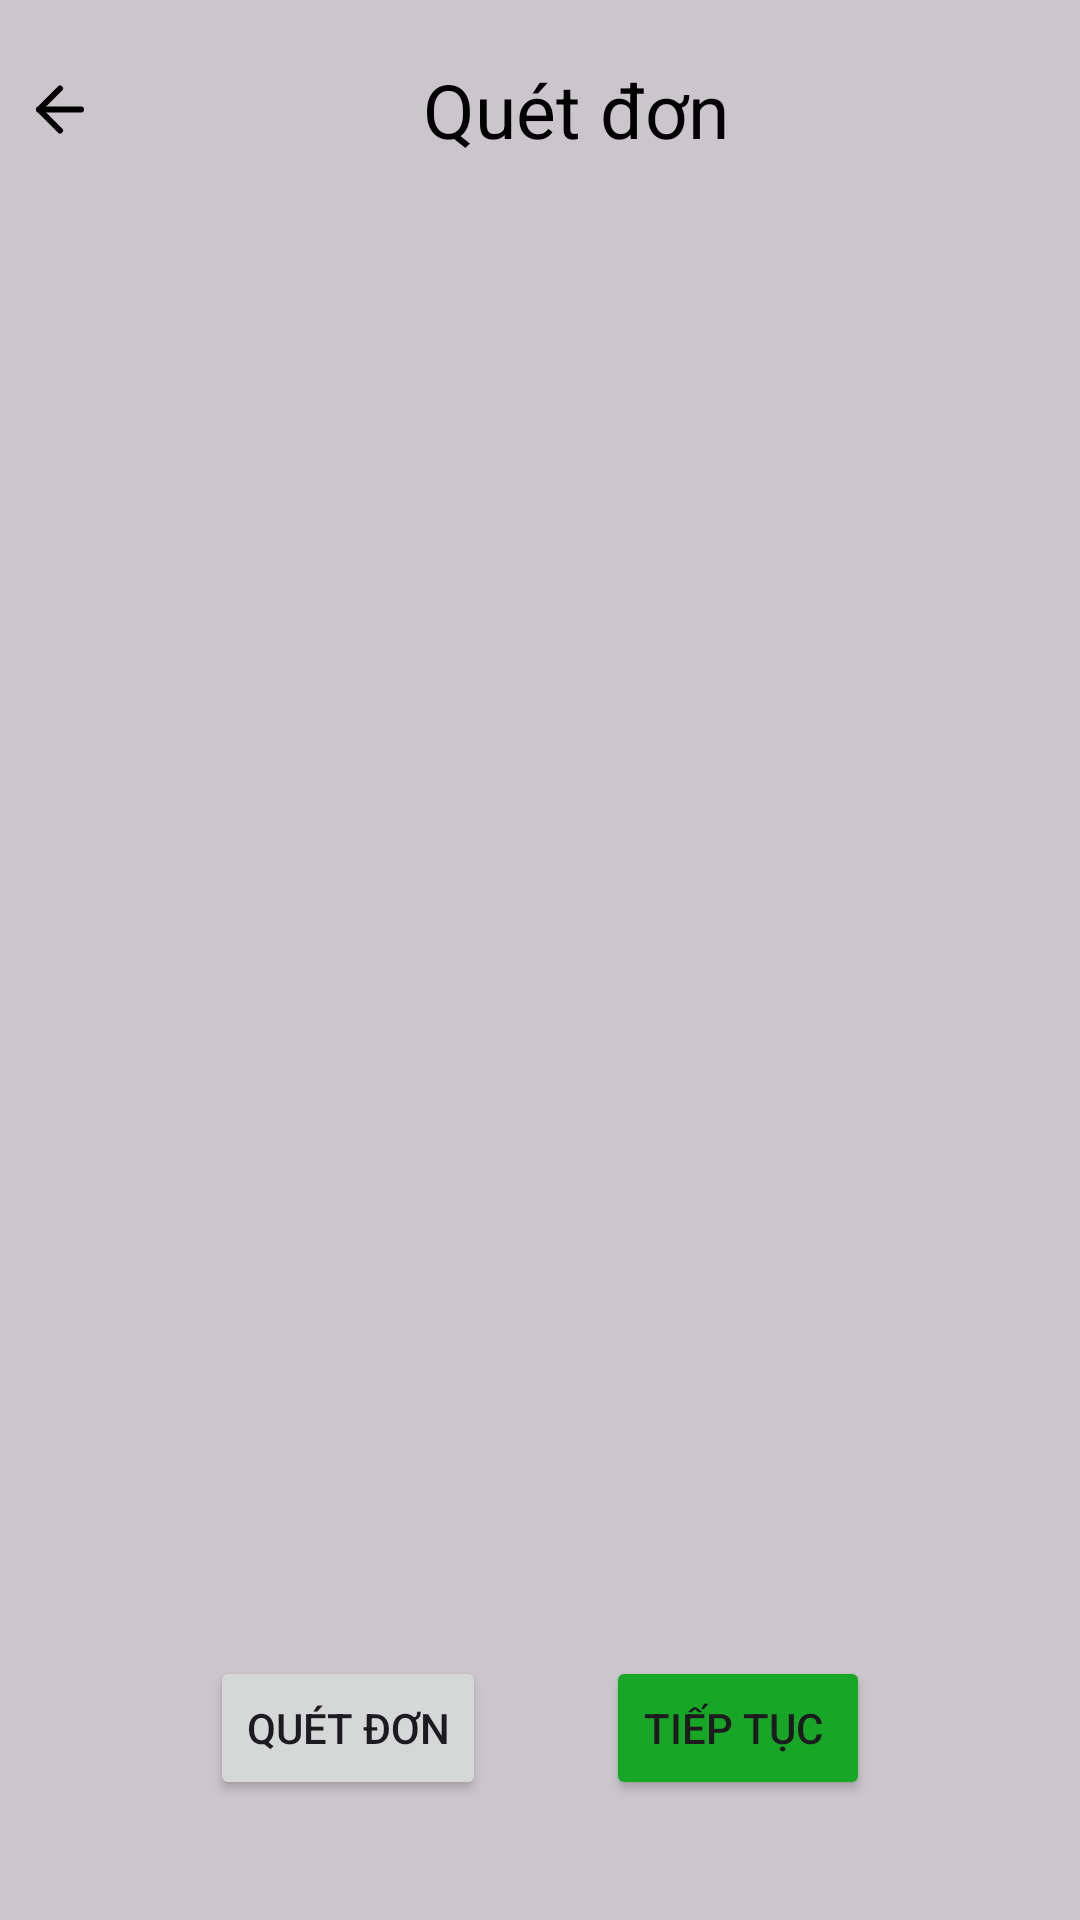

Where icons sit on this 1080*1920 app screen, as (x1, y1, x2, y2):
back: (35, 85, 84, 134)
